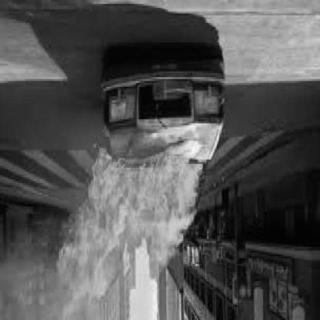Fire: (57, 146, 209, 310)
